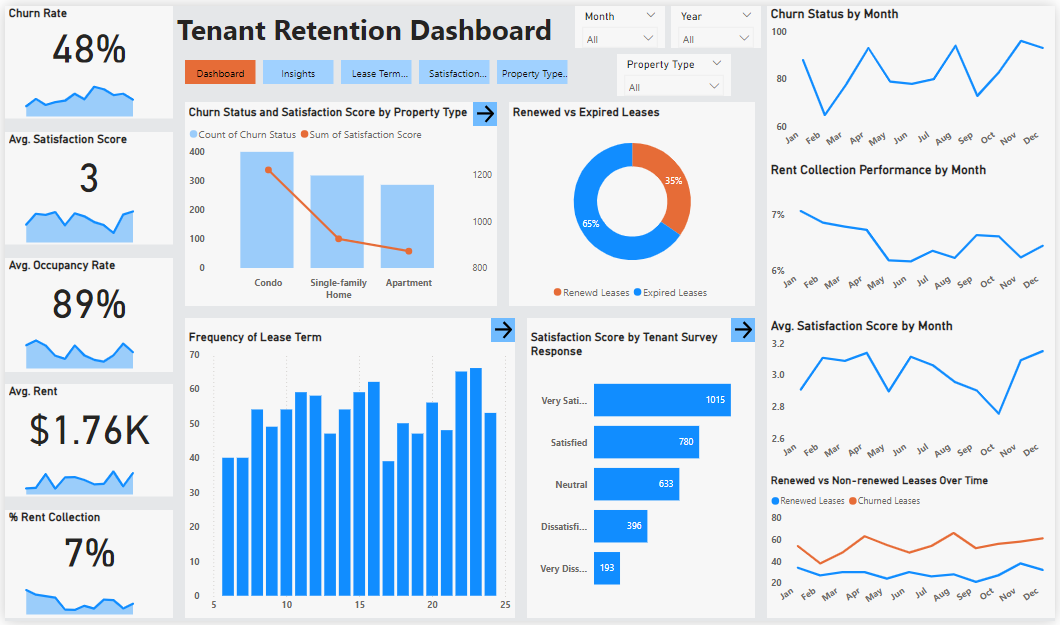

The dashboard page shown, as its layout file describes it:
{"tool":"powerbi","page":{"name":"Dashboard","canvas":[1400,820],"ordinal":0},"visuals":[{"type":"shape","box":[1016,0,384,816],"z":0},{"type":"shape","box":[240,416,440,400],"z":1000},{"type":"shape","box":[696,416,304,400],"z":2000},{"type":"shape","box":[240,128,416,272],"z":3000},{"type":"shape","box":[672,128,328,272],"z":4000},{"type":"shape","box":[0,0,224,150],"z":5000},{"type":"shape","box":[0,672,224,144],"z":6000},{"type":"shape","box":[0,168,224,150],"z":7000},{"type":"shape","box":[0,336,224,152],"z":8000},{"type":"shape","box":[0,504,224,150],"z":9000},{"type":"card","title":"Churn Rate","fields":{"Values":["Measures Table.Churn Rate"]},"box":[0,0,224,80],"z":10000},{"type":"card","title":"Avg. Satisfaction Score","fields":{"Values":["Measures Table.Average Satisfaction Score"]},"box":[0,168,224,88],"z":11000},{"type":"card","title":"Avg. Occupancy Rate","fields":{"Values":["Avg(property_information.Historical Occupancy Rate Decimal)"]},"box":[0,336,224,88],"z":12000},{"type":"card","title":"Avg. Rent","fields":{"Values":["Avg(Full Data.Rent Amount (USD))"]},"box":[0,504,224,88],"z":13000},{"type":"card","title":"% Rent Collection","fields":{"Values":["Measures Table.Rent Collection Performance"]},"box":[0,672,224,80],"z":14000},{"type":"areaChart","fields":{"Category":["Start Date.Month"],"Y":["Measures Table.Churn Rate"]},"box":[0,88,224,64],"z":15000},{"type":"areaChart","fields":{"Category":["Start Date.Month"],"Y":["Measures Table.Average Satisfaction Score"]},"box":[0,256,224,64],"z":16000},{"type":"areaChart","fields":{"Y":["Measures Table.Current Occupancy Rate"],"Category":["Start Date.Month"]},"box":[0,424,224,64],"z":17000},{"type":"areaChart","fields":{"Category":["Start Date.Month"],"Y":["Measures Table.Rent Collection Performance"]},"box":[0,752,224,64],"z":18000},{"type":"areaChart","fields":{"Category":["Start Date.Month"],"Y":["Avg(Full Data.Rent Amount (USD))"]},"box":[0,592,224,64],"z":19000},{"type":"lineChart","title":"Churn Status by Month","fields":{"Category":["Start Date.MonthName"],"Y":["CountNonNull(Full Data.Churn Status)"]},"box":[1016,0,384,208],"z":20000},{"type":"lineChart","title":"Rent Collection Performance by Month","fields":{"Category":["Start Date.MonthName"],"Y":["Measures Table.Rent Collection Performance"]},"box":[1016,208,384,192],"z":21000},{"type":"lineChart","title":"Avg. Satisfaction Score by Month","fields":{"Category":["Start Date.MonthName"],"Y":["Avg(tenant_information_and_feedback.Satisfaction Score)"]},"box":[1016,416,384,208],"z":22000},{"type":"lineChart","title":"Renewed vs Non-renewed Leases Over Time","fields":{"Category":["Start Date.MonthName"],"Y":["Measures Table.Actie Leases","Measures Table.Churned Leases"]},"box":[1016,624,384,192],"z":23000},{"type":"lineClusteredColumnComboChart","title":"Churn Status and Satisfaction Score by Property Type","fields":{"Category":["property_information.Property Type"],"Y":["CountNonNull(Full Data.Churn Status)"],"Y2":["Sum(tenant_information_and_feedback.Satisfaction Score)"]},"box":[240,128,416,272],"z":24000},{"type":"columnChart","title":"Frequency of Lease Term","fields":{"Category":["Full Data.Lease Term (Months)"],"Y":["CountNonNull(Full Data.Lease ID)"]},"box":[240,432,440,384],"z":25000},{"type":"donutChart","title":"Renewed vs Expired Leases","fields":{"Y":["Measures Table.Active Leases","Measures Table.Churned Leases"]},"box":[672,128,328,272],"z":26000},{"type":"clusteredBarChart","title":"Satisfaction Score by Tenant Survey Response","fields":{"Category":["tenant_information_and_feedback.Survey Response"],"Y":["Sum(tenant_information_and_feedback.Satisfaction Score)"]},"box":[696,432,304,368],"z":27000},{"type":"textbox","box":[224,0,544,64],"z":28000},{"type":"pageNavigator","box":[240,72,512,32],"z":29000},{"type":"actionButton","box":[648,416,32,32],"z":30000},{"type":"actionButton","box":[968,416,32,32],"z":31000},{"type":"actionButton","box":[624,128,32,32],"z":32000},{"type":"slicer","title":"Churn Status by Month","fields":{"Values":["Start Date.MonthName","Full Data.Churn Status"]},"box":[760,0,120,56],"z":33000},{"type":"slicer","title":"Churn Status by Month","fields":{"Values":["Start Date.Year","Full Data.Churn Status"]},"box":[888,0,120,56],"z":34000},{"type":"slicer","title":"Churn Status by Month","fields":{"Values":["property_information.Property Type","Full Data.Churn Status"]},"box":[816,64,152,56],"z":35000}]}

Visuals, with their boxes in screenshot pixels (x1, y1, x2, y2), scaled from the page's 1400x820 canvas onto the 1060x625 screenshot:
shape: box=[769, 0, 1059, 622]
shape: box=[182, 317, 515, 622]
shape: box=[527, 317, 757, 622]
shape: box=[182, 98, 497, 305]
shape: box=[509, 98, 757, 305]
shape: box=[0, 0, 170, 114]
shape: box=[0, 512, 170, 622]
shape: box=[0, 128, 170, 242]
shape: box=[0, 256, 170, 372]
shape: box=[0, 384, 170, 498]
"Churn Rate" card: box=[0, 0, 170, 61]
"Avg. Satisfaction Score" card: box=[0, 128, 170, 195]
"Avg. Occupancy Rate" card: box=[0, 256, 170, 323]
"Avg. Rent" card: box=[0, 384, 170, 451]
"% Rent Collection" card: box=[0, 512, 170, 573]
areaChart - Start Date.Month x Measures Table.Churn Rate: box=[0, 67, 170, 116]
areaChart - Start Date.Month x Measures Table.Average Satisfaction Score: box=[0, 195, 170, 244]
areaChart - Measures Table.Current Occupancy Rate x Start Date.Month: box=[0, 323, 170, 372]
areaChart - Start Date.Month x Measures Table.Rent Collection Performance: box=[0, 573, 170, 622]
areaChart - Start Date.Month x Avg(Full Data.Rent Amount (USD)): box=[0, 451, 170, 500]
"Churn Status by Month" lineChart: box=[769, 0, 1059, 159]
"Rent Collection Performance by Month" lineChart: box=[769, 159, 1059, 305]
"Avg. Satisfaction Score by Month" lineChart: box=[769, 317, 1059, 476]
"Renewed vs Non-renewed Leases Over Time" lineChart: box=[769, 476, 1059, 622]
"Churn Status and Satisfaction Score by Property Type" lineClusteredColumnComboChart: box=[182, 98, 497, 305]
"Frequency of Lease Term" columnChart: box=[182, 329, 515, 622]
"Renewed vs Expired Leases" donutChart: box=[509, 98, 757, 305]
"Satisfaction Score by Tenant Survey Response" clusteredBarChart: box=[527, 329, 757, 610]
textbox: box=[170, 0, 581, 49]
pageNavigator: box=[182, 55, 569, 79]
actionButton: box=[491, 317, 515, 341]
actionButton: box=[733, 317, 757, 341]
actionButton: box=[472, 98, 497, 122]
"Churn Status by Month" slicer: box=[575, 0, 666, 43]
"Churn Status by Month" slicer: box=[672, 0, 763, 43]
"Churn Status by Month" slicer: box=[618, 49, 733, 91]
